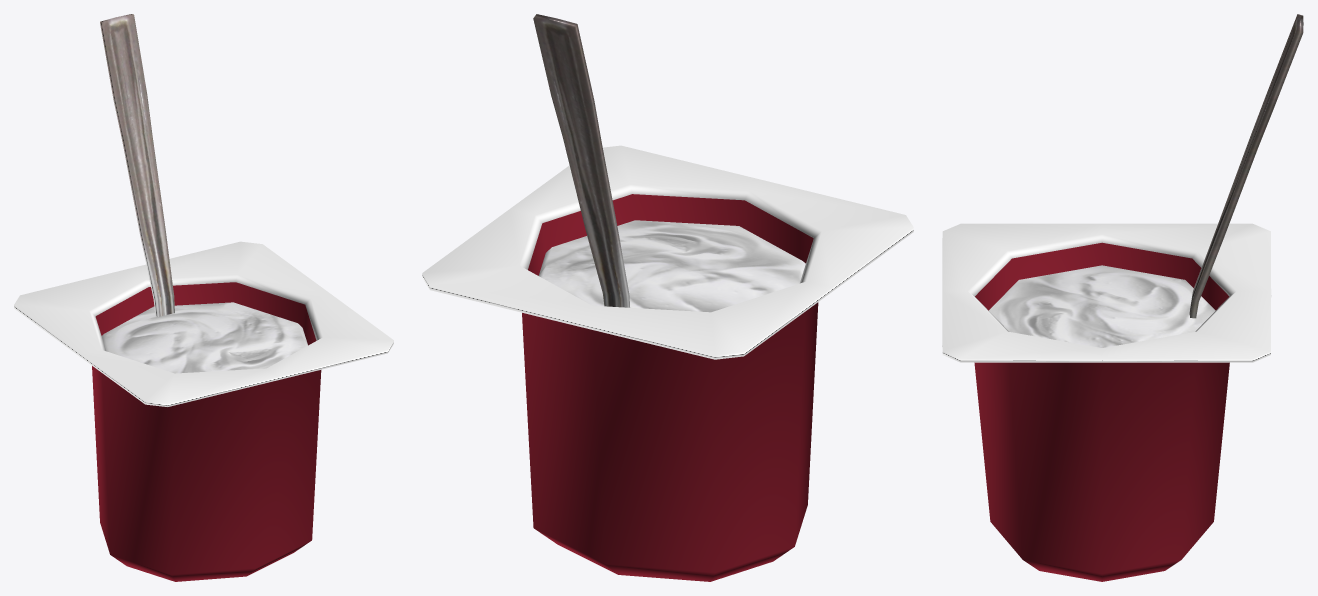
File: yogurt.fbx
3 views of the same model, side by side, from view 1: azimuth 30°, elevation 25°; view 2: azimuth 150°, elevation 25°; view 3: azimuth 270°, elevation 25° (orthographic). The views are drawn at different scales.
Parts seen in each view (by area): view 1: polySurface2, polySurface1; view 2: polySurface2, polySurface1; view 3: polySurface2, polySurface1.
Part boxes in pixels (x1,y1,x2,y2): polySurface2: (14,241,393,581); polySurface1: (100,14,174,316); polySurface2: (422,145,913,581); polySurface1: (533,14,629,307); polySurface2: (942,223,1271,581); polySurface1: (1189,14,1303,318).
Bounding box in the file's own units: 4.7 × 8.4 × 5.32.
